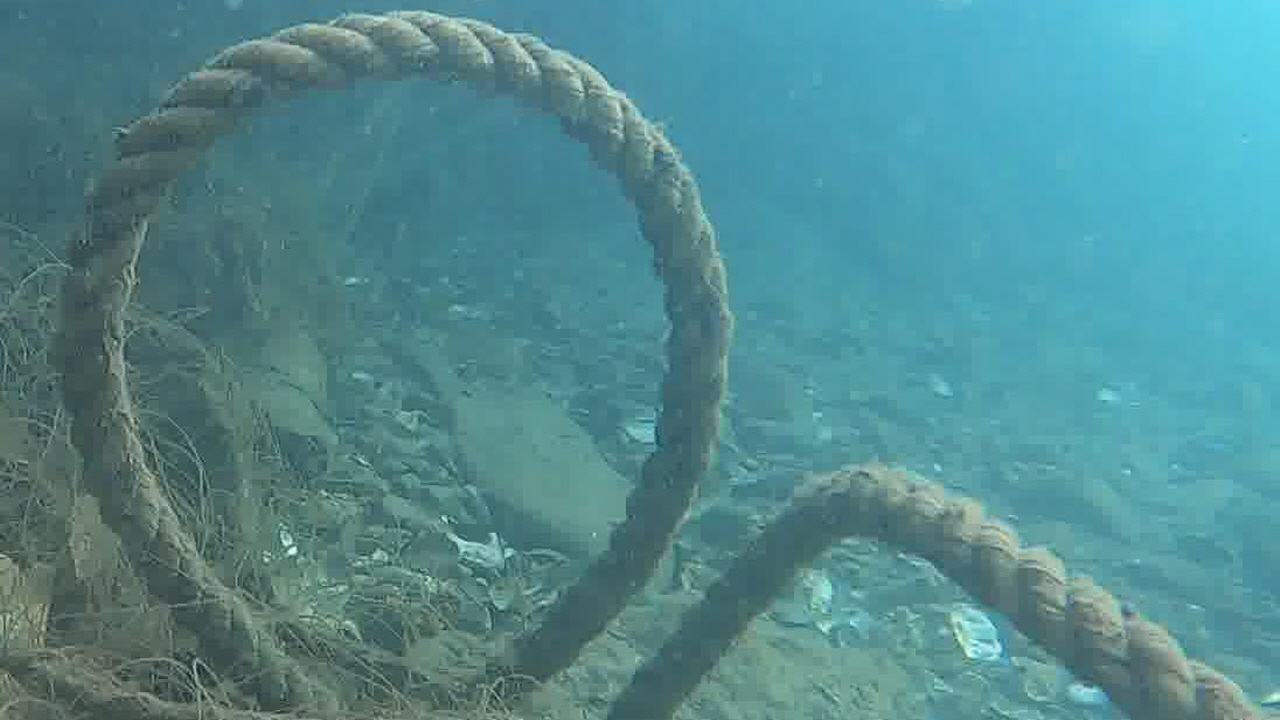rope: (53, 6, 737, 720), (607, 458, 1259, 720)
